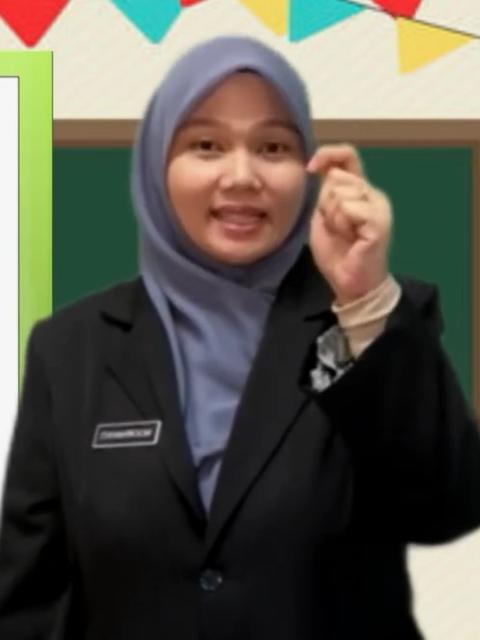T: (304, 140, 396, 286)
